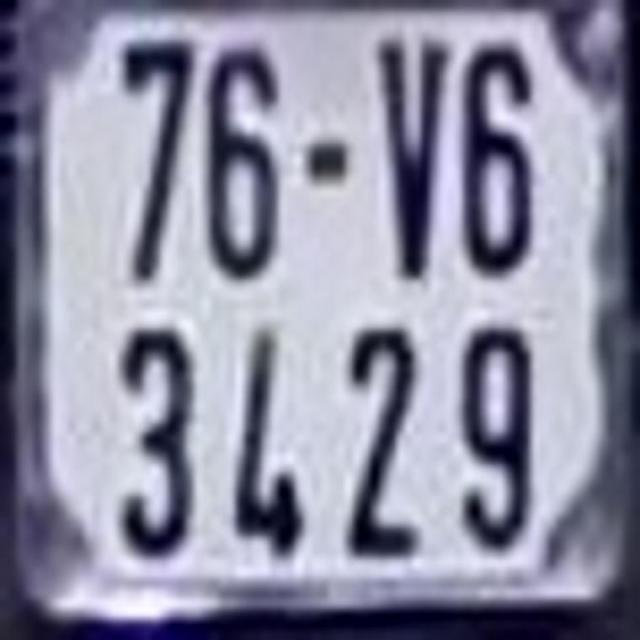2: (337, 308, 423, 572)
3: (114, 305, 193, 561)
4: (226, 316, 304, 566)
6: (200, 34, 284, 281), (456, 26, 534, 280)
7: (117, 39, 196, 282)
9: (453, 318, 534, 554)
V: (374, 31, 453, 278)
